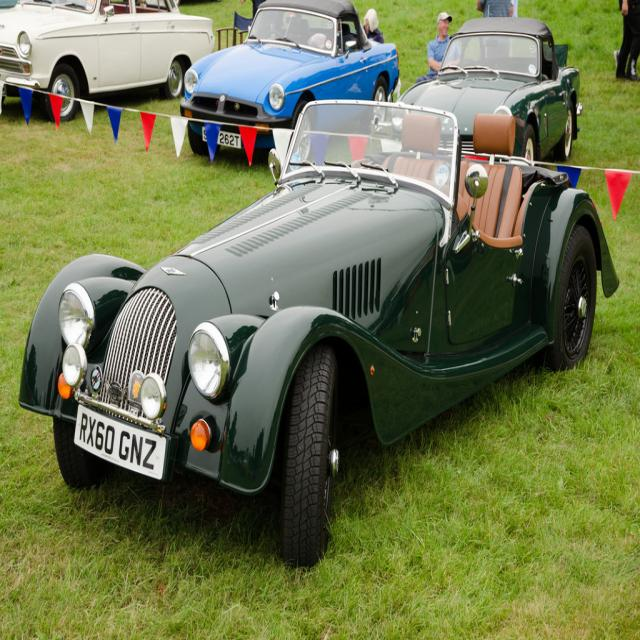car: (22, 94, 620, 567)
